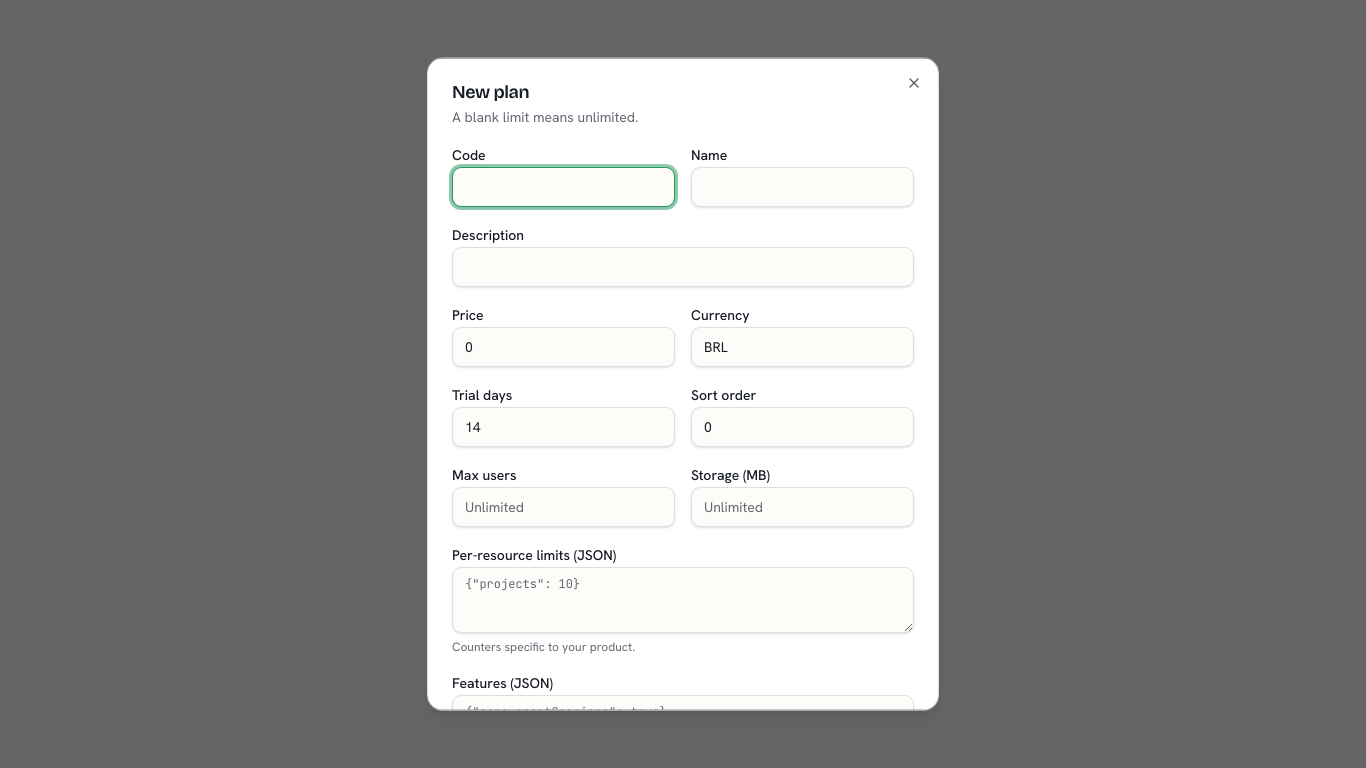
Test case: PlanFormDialog — creating › refuses malformed JSON out loud instead of dropping what was typed
Type "starter" into the field labelled "Code". click: coordinates (564, 187)
box: [452, 167, 675, 207]
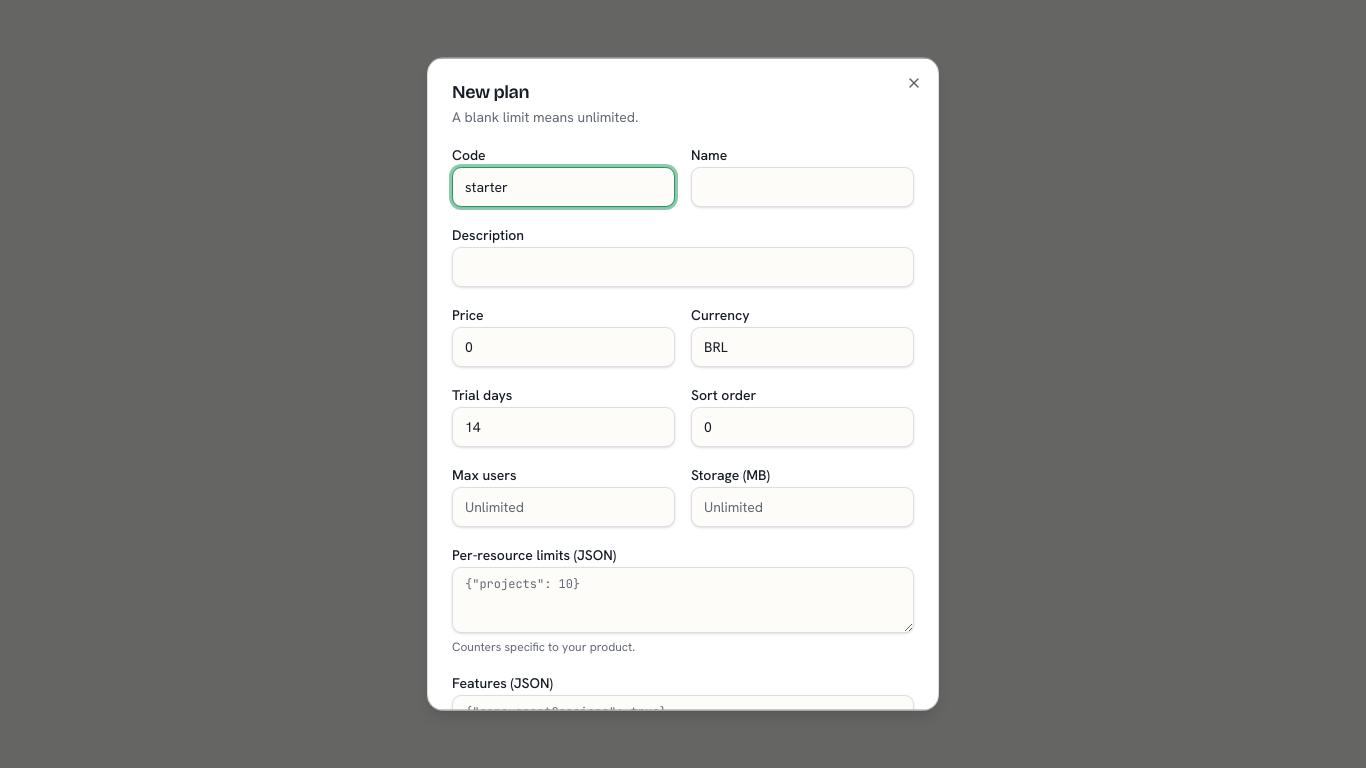
Type "Starter" into the field labelled "Name". click: coordinates (802, 187)
box: [691, 167, 914, 207]
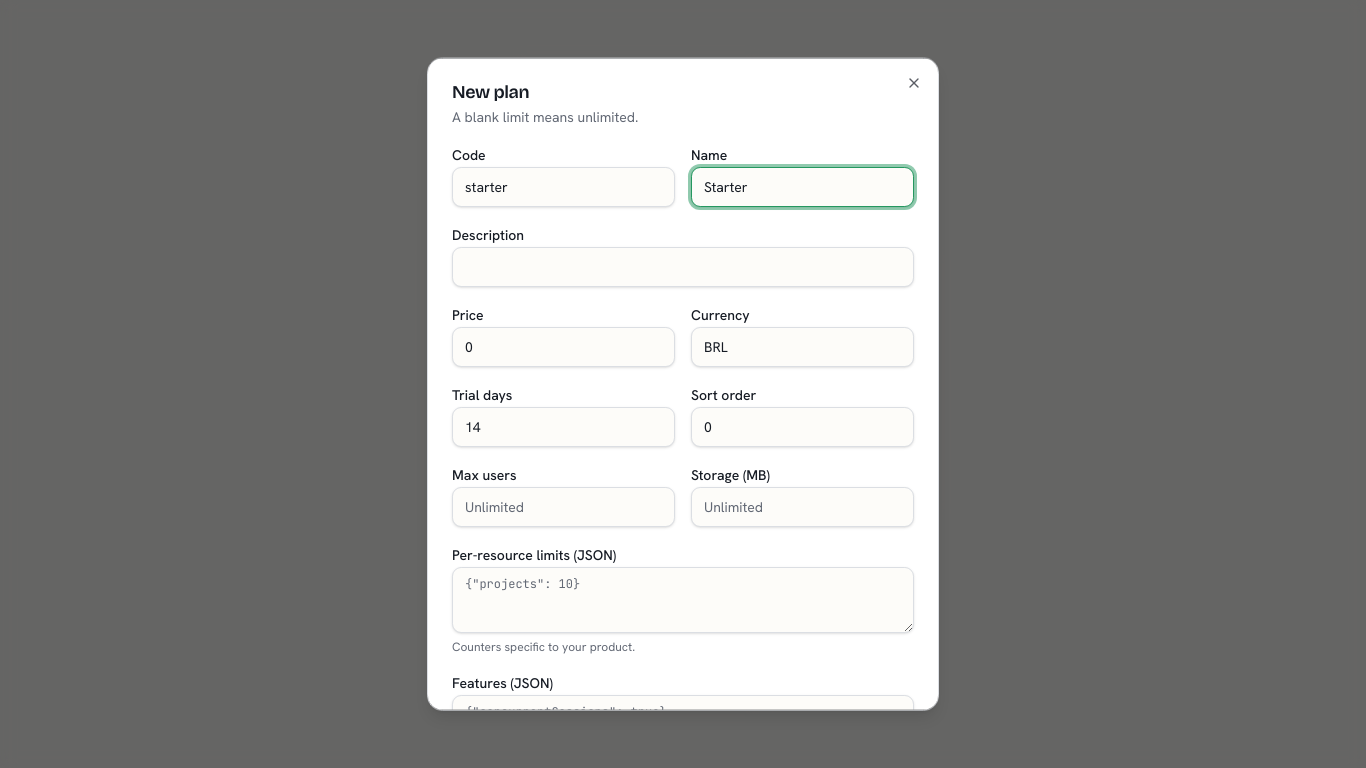
Type "not json" into the text box labelled "Per-resource limits (JSON)". click: coordinates (683, 600)
box: [452, 567, 914, 633]
(page scrolled)
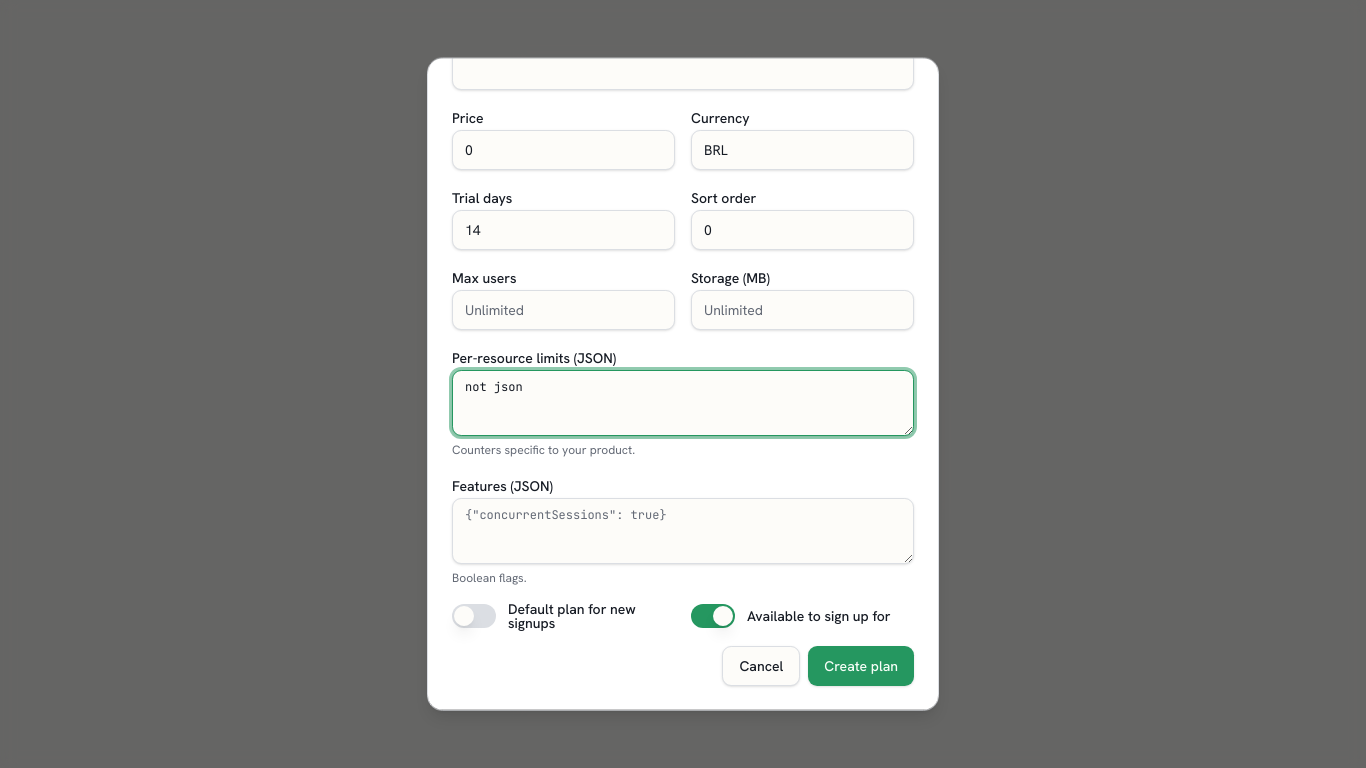
Click the button "Create plan". click: coordinates (861, 666)
box: [808, 646, 914, 686]
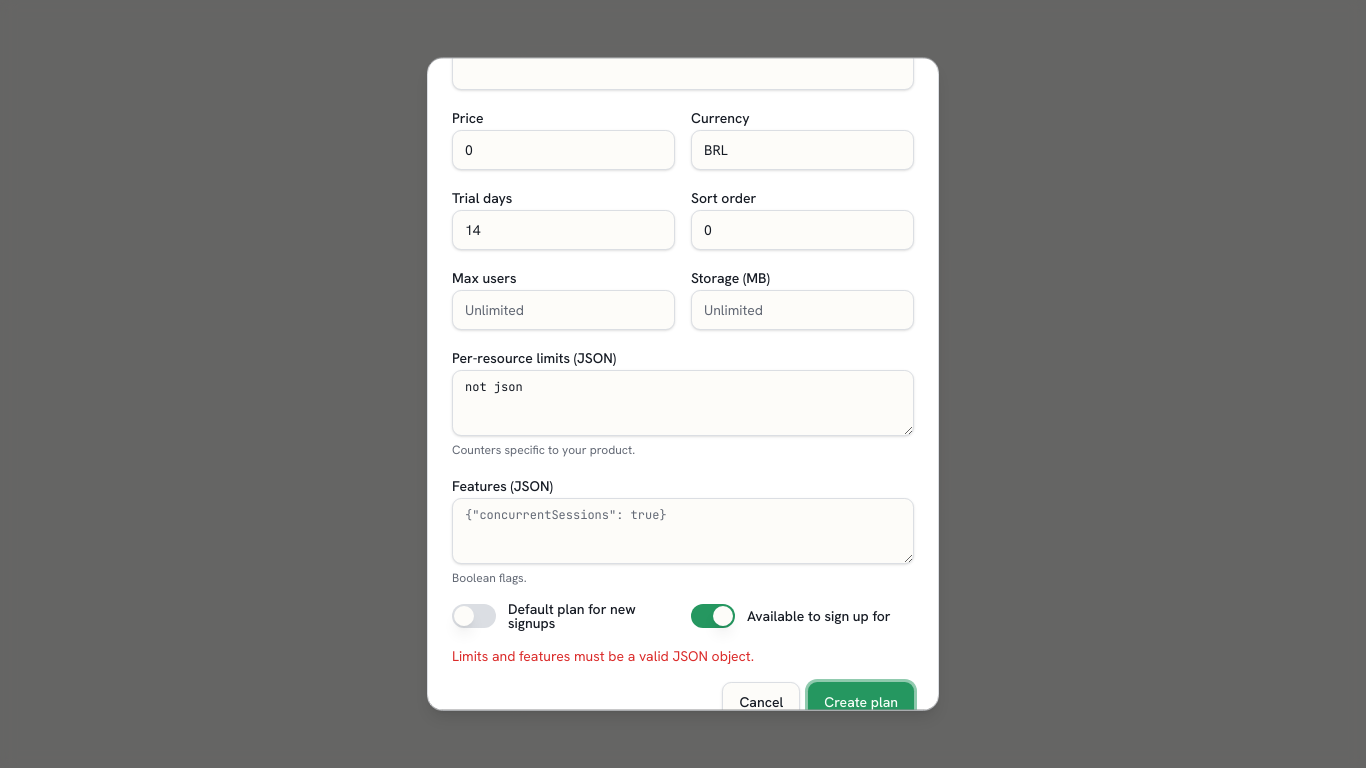
expect the message reads "Limits and features must be a valid JSON object.": met, box [452, 647, 754, 665]
